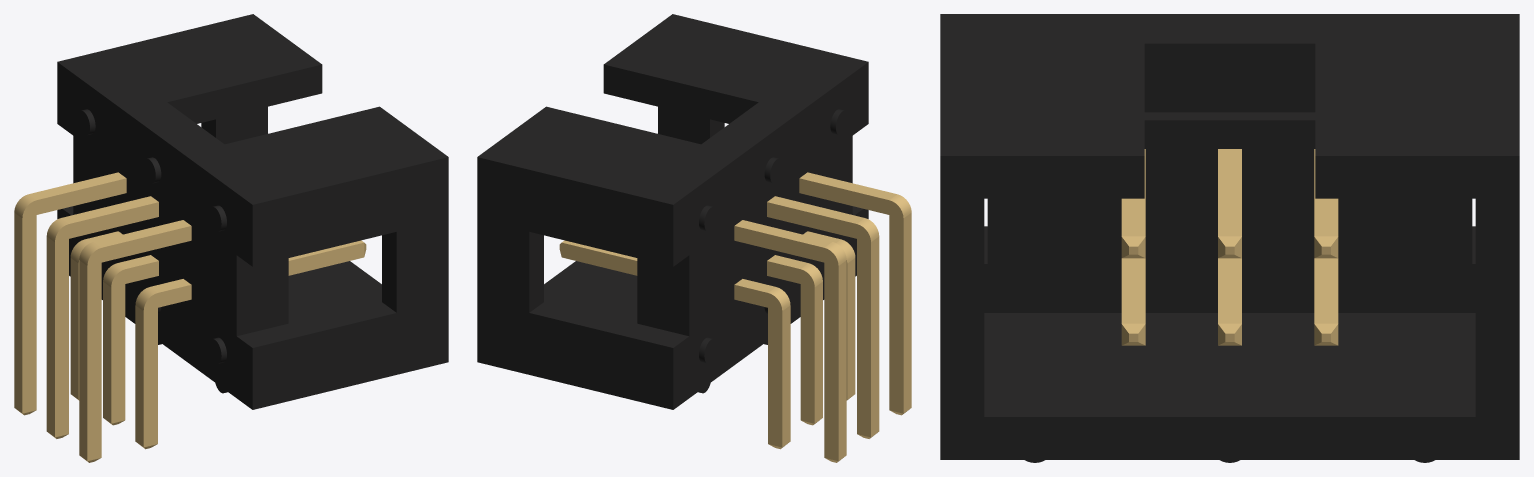
Rendered from kc-idc-header_2x03_p2.54mm_horizontal.glb.
The picture shows the model from 3 angles, left to right: view 1: azimuth 30°, elevation 25°; view 2: azimuth 150°, elevation 25°; view 3: azimuth 270°, elevation 25°; orthographic projection. The views are drawn at different scales.
Parts seen in each view (by area): view 1: 0_0_0_0, 0.75_0.5_0.25_0.9; view 2: 0_0_0_0, 0.75_0.5_0.25_0.9; view 3: 0_0_0_0, 0.75_0.5_0.25_0.9.
Part boxes in pixels (x1,y1,x2,y2): 0_0_0_0: (57, 14, 448, 409); 0.75_0.5_0.25_0.9: (14, 172, 366, 462); 0_0_0_0: (477, 14, 868, 409); 0.75_0.5_0.25_0.9: (559, 172, 911, 462); 0_0_0_0: (940, 14, 1519, 462); 0.75_0.5_0.25_0.9: (1121, 149, 1338, 345).
Size of the model in its own units: 1.35 by 1.21 by 1.53.
